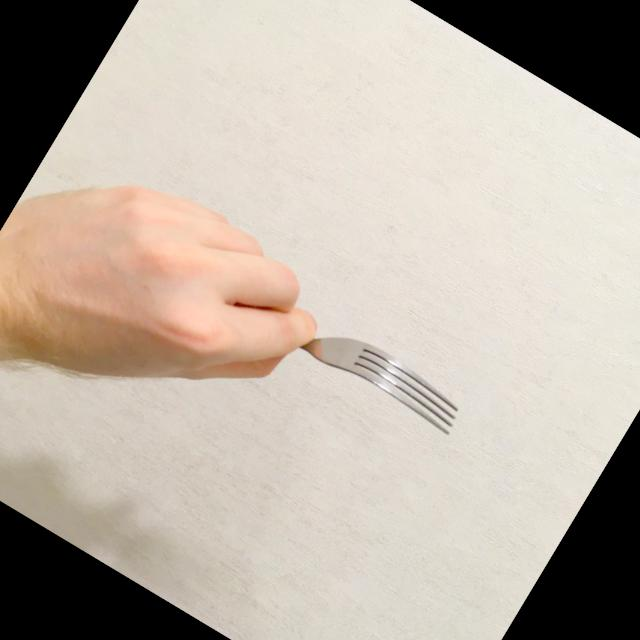fork: (175, 238, 474, 443)
